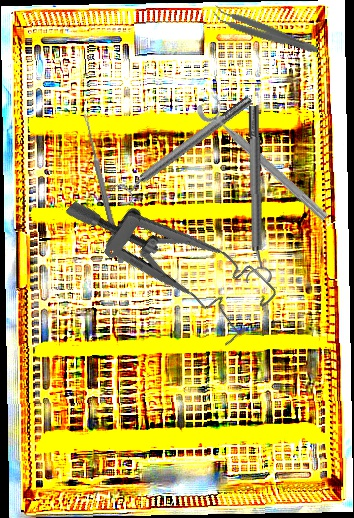Fixation Ring: (193, 91, 338, 225), (107, 89, 259, 210), (240, 105, 273, 283)
Speculum: (63, 146, 281, 361)
Surgical Spoon: (81, 113, 126, 264)
Tissue Forceps: (209, 3, 322, 58)
